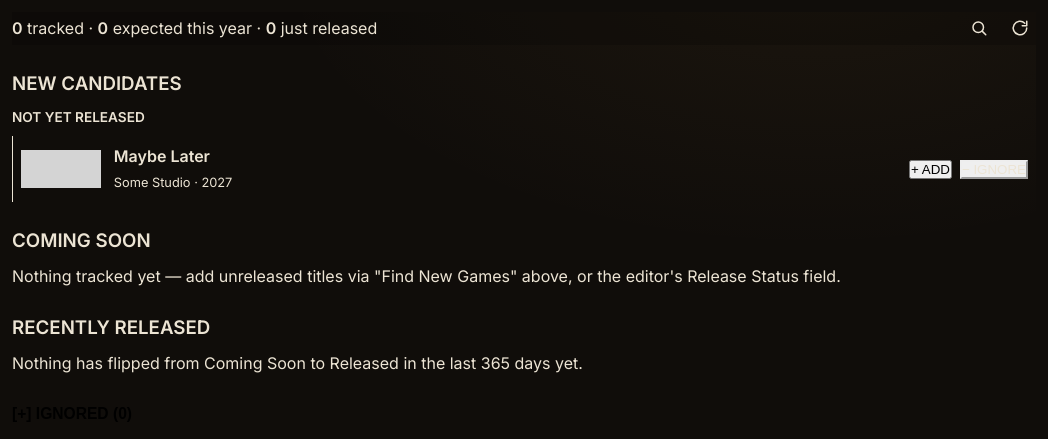
Test: WatchlistView › IGNORE on a candidate › writes the candidate as Ignored (not Coming Soon), removes it from the candidate list, and never stamps Released At
Click the button "− IGNORE". click: (994, 169)
box: [960, 160, 1028, 179]
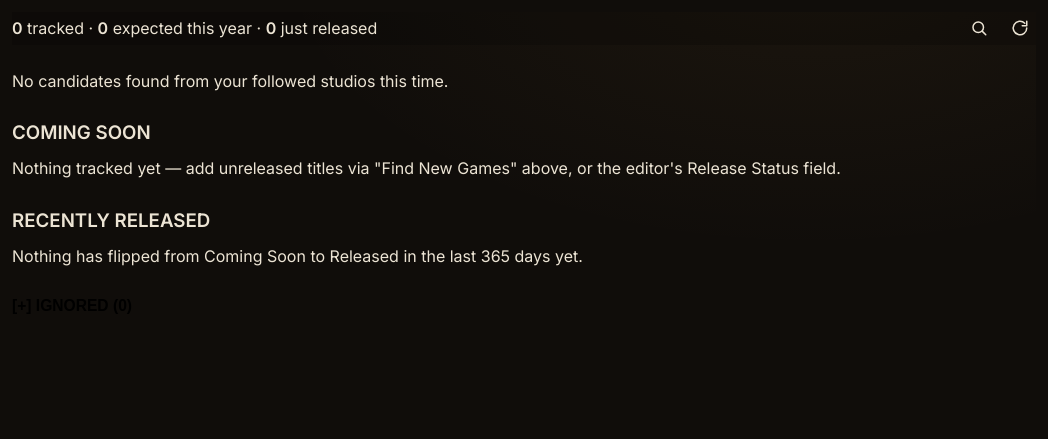
Now the link "Maybe Later" is gone
